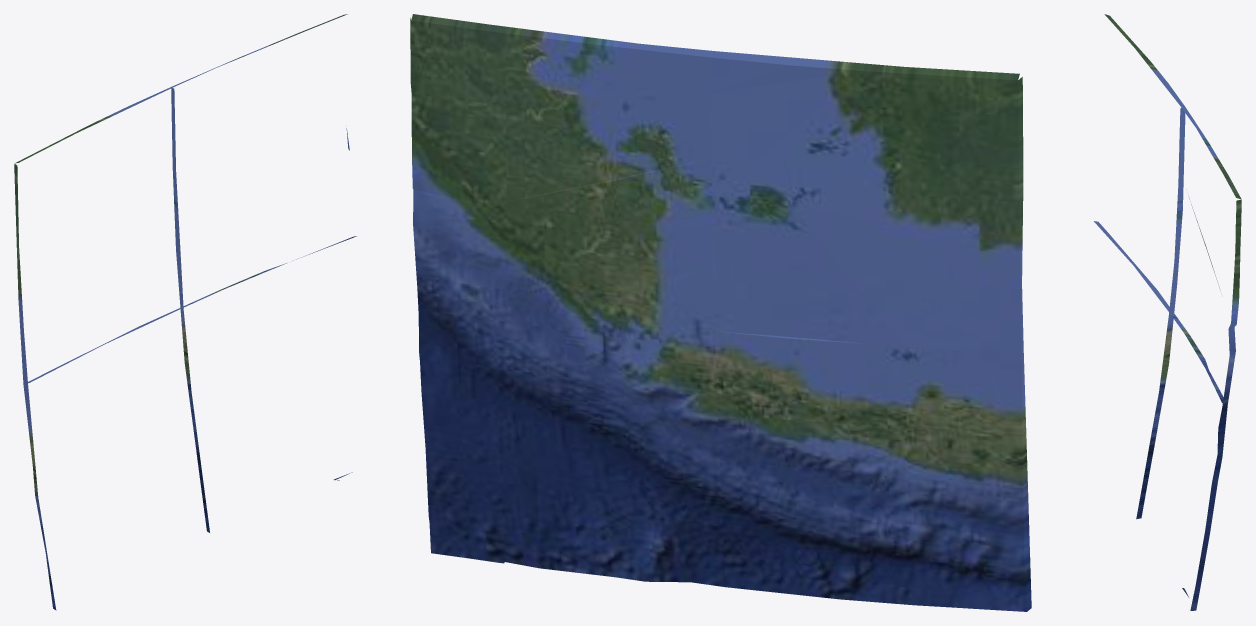
3 renders of one model, left to right at view 1: azimuth 30°, elevation 25°; view 2: azimuth 150°, elevation 25°; view 3: azimuth 270°, elevation 25°, orthographic. The views are drawn at different scales.
Bounding box in the file's own units: 1235071 × 1254490 × 501647.
Materials: 1 (1 with a texture image).
